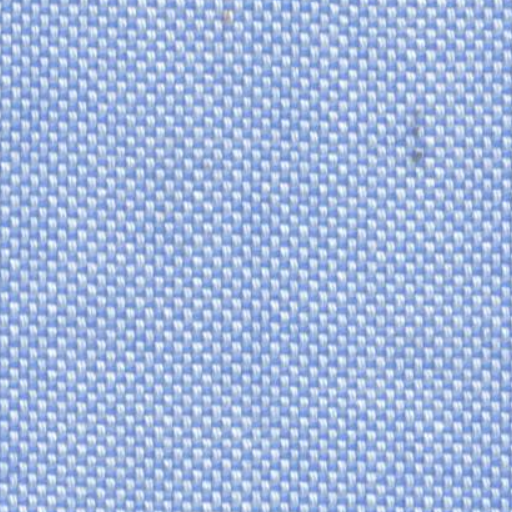WuZi: (386, 91, 444, 175)
